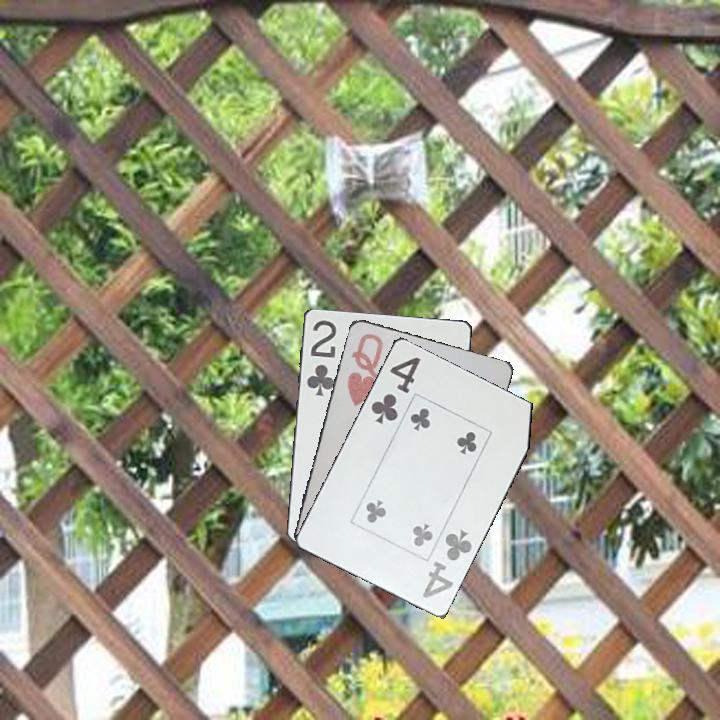2c: (303, 316, 339, 399)
4c: (419, 525, 475, 601), (367, 353, 423, 427)
Qh: (343, 329, 386, 409)
